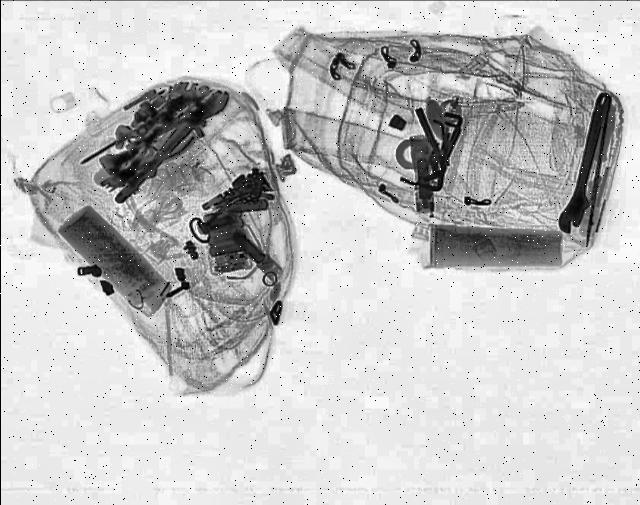Wrench: (106, 85, 234, 210), (552, 90, 618, 236)
